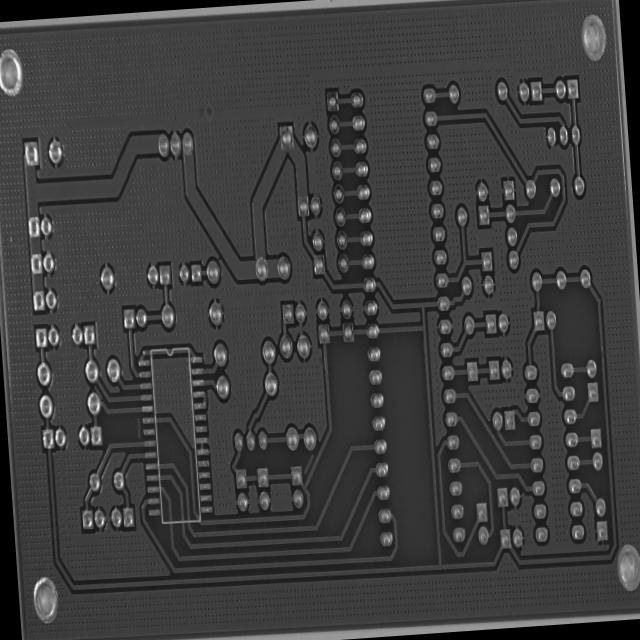spurious_copper: (299, 448, 318, 478), (133, 414, 143, 441), (92, 382, 104, 403)
